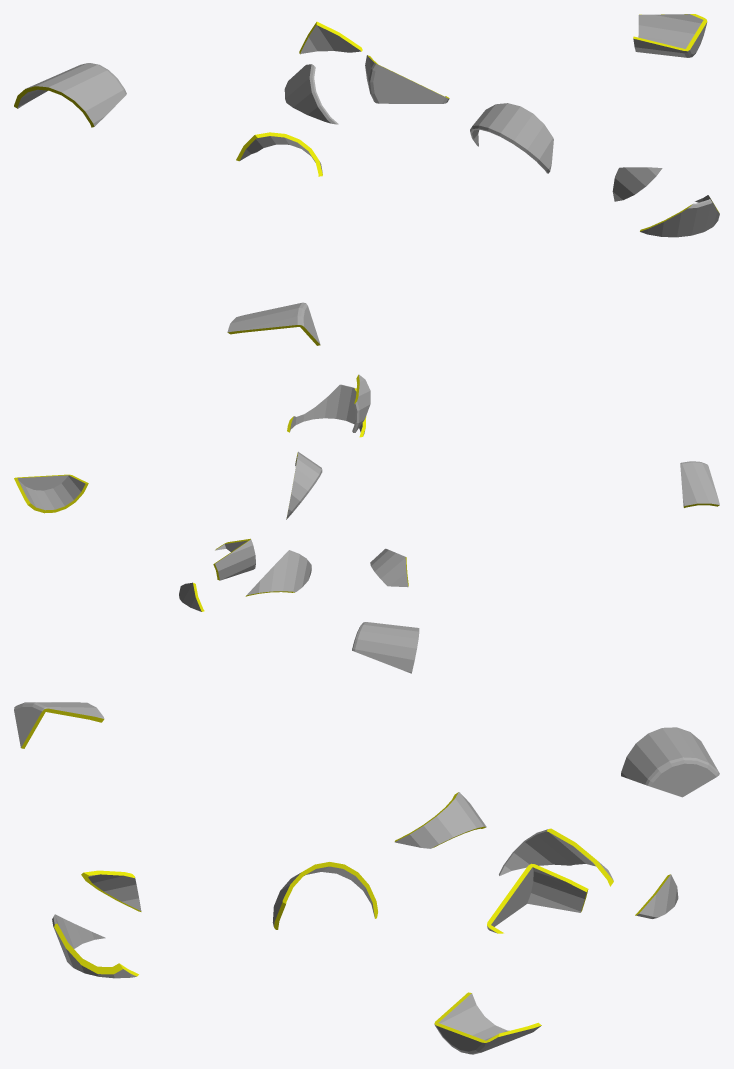
File: brokencup.fbx
The picture shows the model from 3 angles, top to bottom: view 1: azimuth 30°, elevation 25°; view 2: azimuth 150°, elevation 25°; view 3: azimuth 270°, elevation 25°; orthographic projection. The views are drawn at different scales.
Visible parts, largest first — view 1: brokencup:solidShatter1SetSolved; view 2: brokencup:solidShatter1SetSolved; view 3: brokencup:solidShatter1SetSolved.
Boxes of the visible parts, bbox=[...] form: brokencup:solidShatter1SetSolved: bbox=[14, 14, 719, 345]; brokencup:solidShatter1SetSolved: bbox=[14, 374, 719, 673]; brokencup:solidShatter1SetSolved: bbox=[14, 702, 719, 1054].
Bounding box in the file's own units: 6.61 × 0.629 × 5.62.
